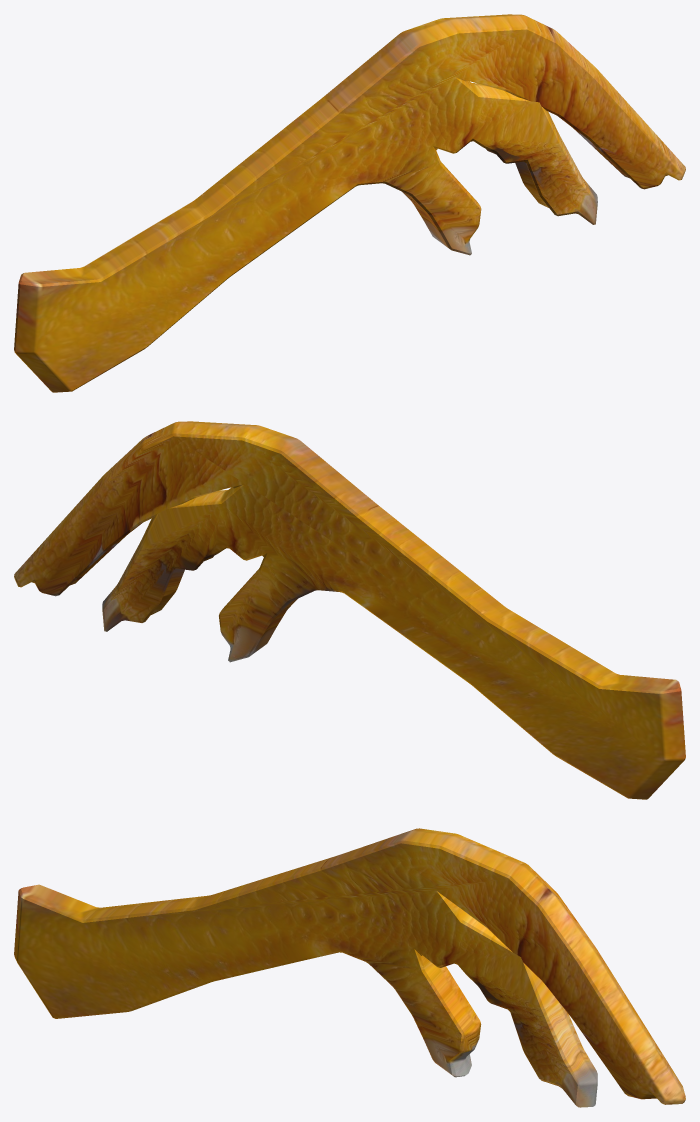
The model's file is chickenfoot.fbx.
The picture shows the model from 3 angles, top to bottom: view 1: azimuth 30°, elevation 25°; view 2: azimuth 150°, elevation 25°; view 3: azimuth 330°, elevation 25°; orthographic projection.
Visible parts, largest first — view 1: chickenfoot; view 2: chickenfoot; view 3: chickenfoot.
Part boxes in pixels (x1=…): chickenfoot: x1=14, y1=14, x2=685, y2=392; chickenfoot: x1=14, y1=421, x2=685, y2=799; chickenfoot: x1=14, y1=828, x2=685, y2=1107.
Size of the model in its own units: 9.65 by 3.79 by 0.4538.
